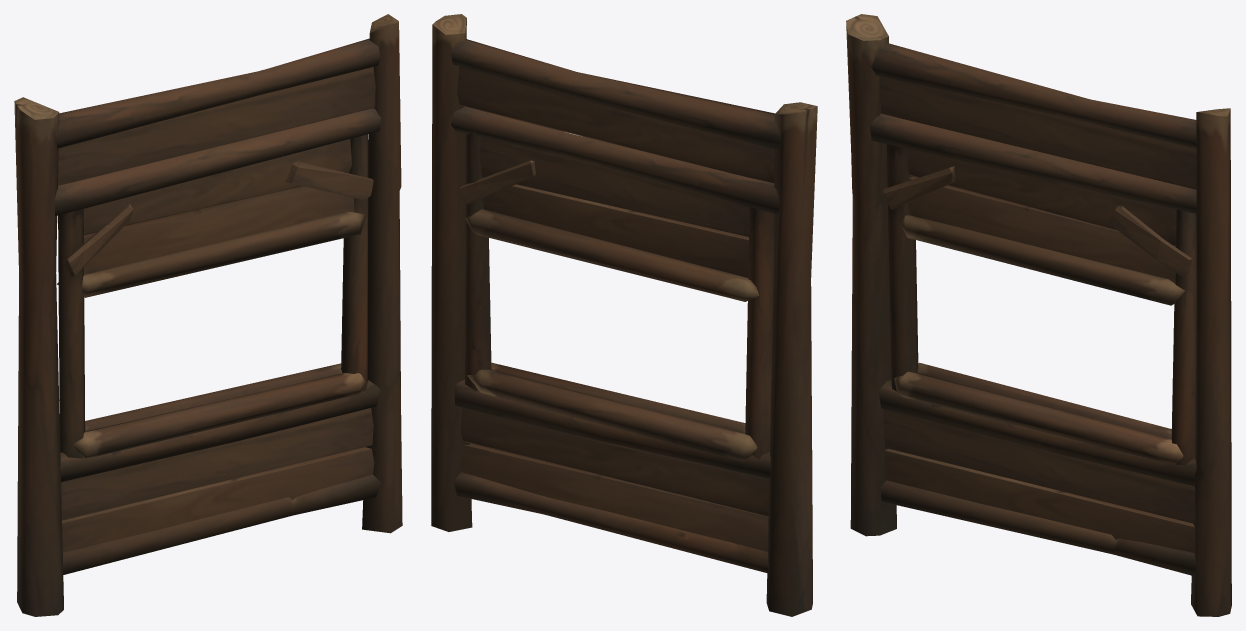
Rendered from Window01.FBX.
The picture shows the model from 3 angles, left to right: view 1: azimuth 30°, elevation 25°; view 2: azimuth 150°, elevation 25°; view 3: azimuth 330°, elevation 25°; orthographic projection.
Parts seen in each view (by area): view 1: Object168; view 2: Object168; view 3: Object168.
Part boxes in pixels (x1,y1,x2,y2): Object168: (14,14,402,616); Object168: (431,14,817,616); Object168: (846,14,1231,616).
Size of the model in its own units: 1.99 by 2.5 by 0.2274.
